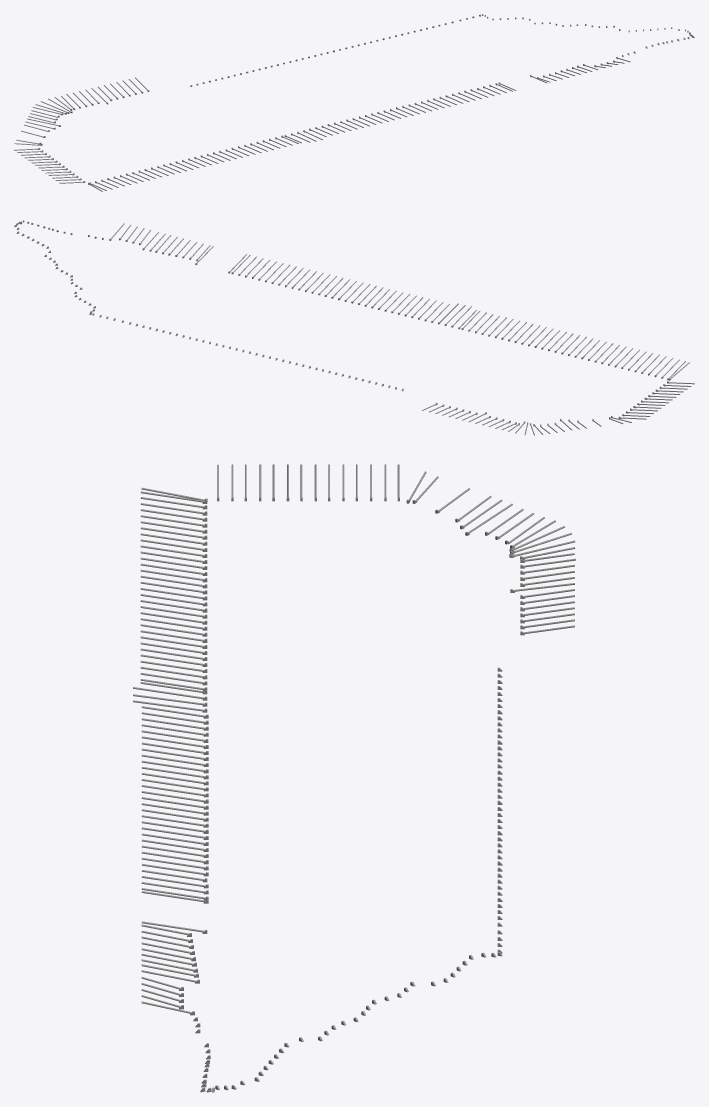
The picture shows the model from 3 angles, top to bottom: view 1: azimuth 30°, elevation 25°; view 2: azimuth 150°, elevation 25°; view 3: azimuth 270°, elevation 25°; orthographic projection. The views are drawn at different scales.
Bounding box in the file's own units: 24022 × 249 × 7298.
1 material, 1 textured.
